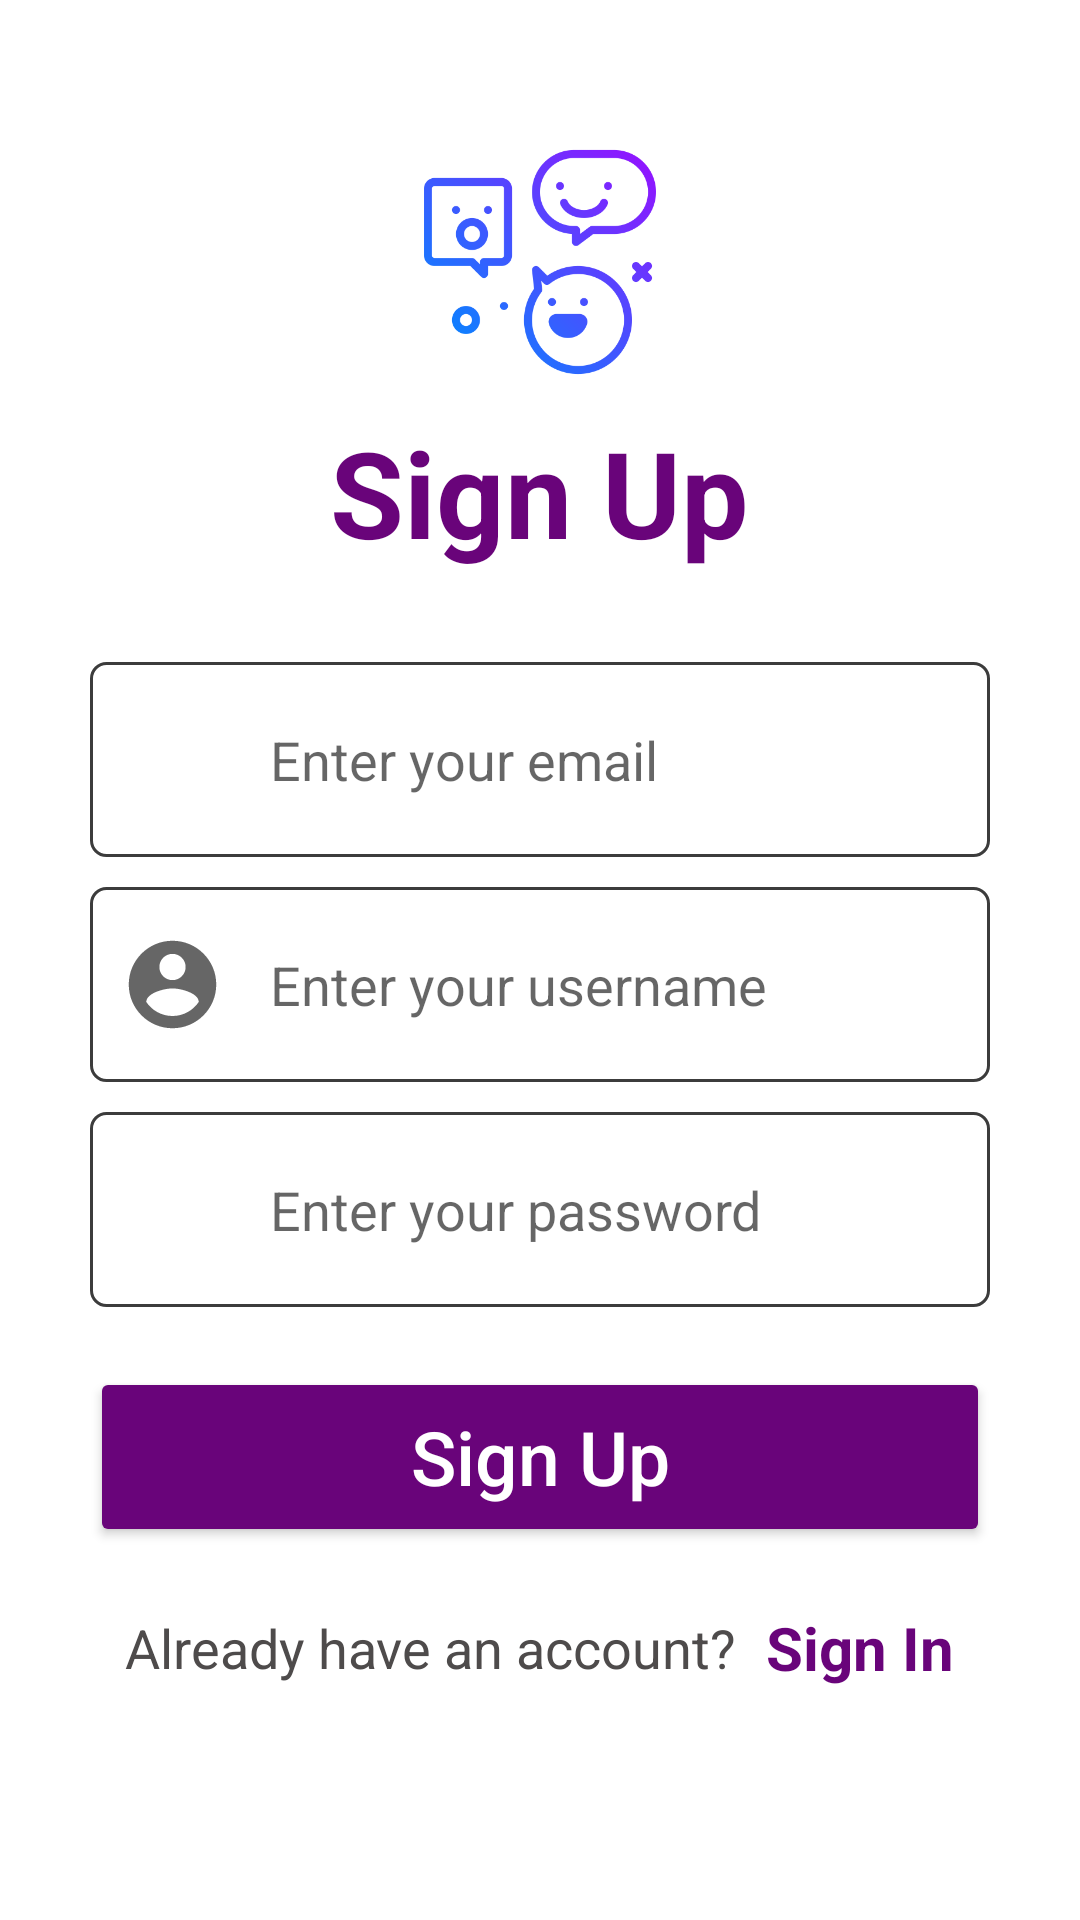

Locate icon controls on the screen. Image size 1080x1920, boxes as (x1, y1, x2, y2).
account circle: (128, 940, 217, 1029)
chat: (424, 150, 656, 374)
